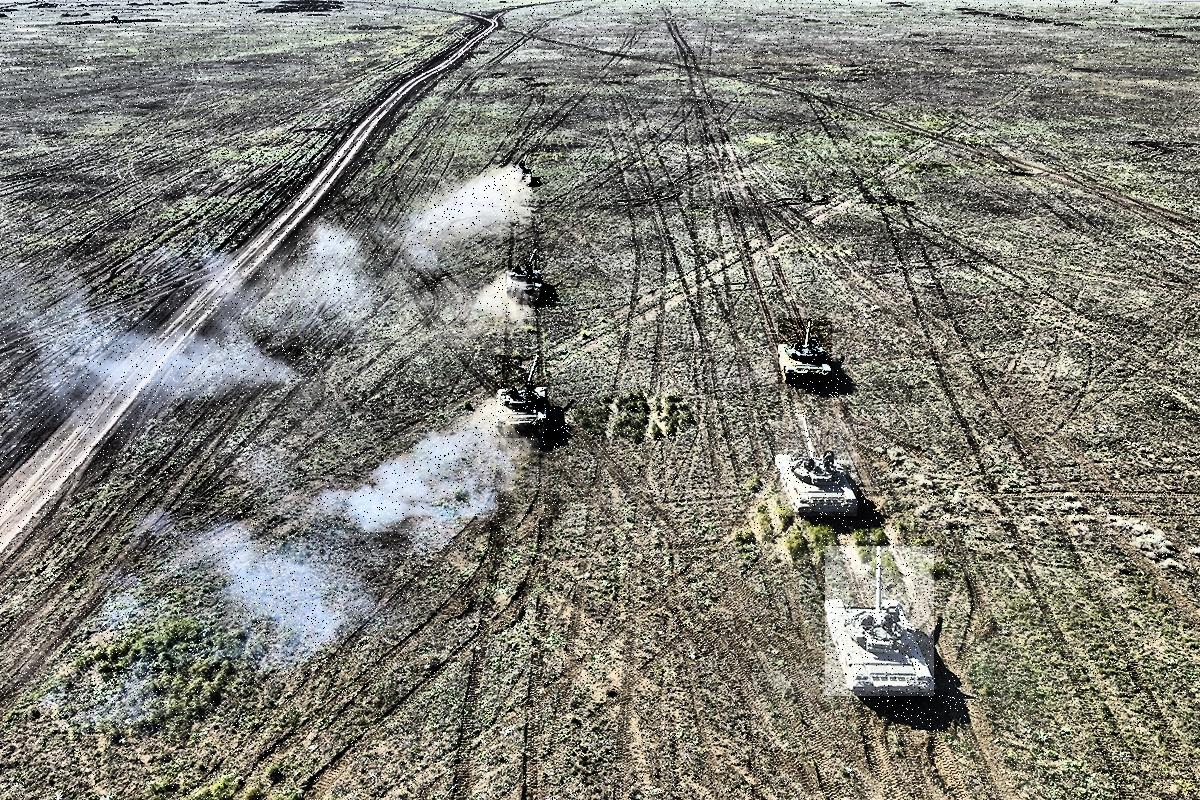military-vehicle: (826, 546, 935, 696), (775, 415, 857, 516), (496, 356, 551, 439), (779, 318, 833, 384), (502, 249, 544, 307)
